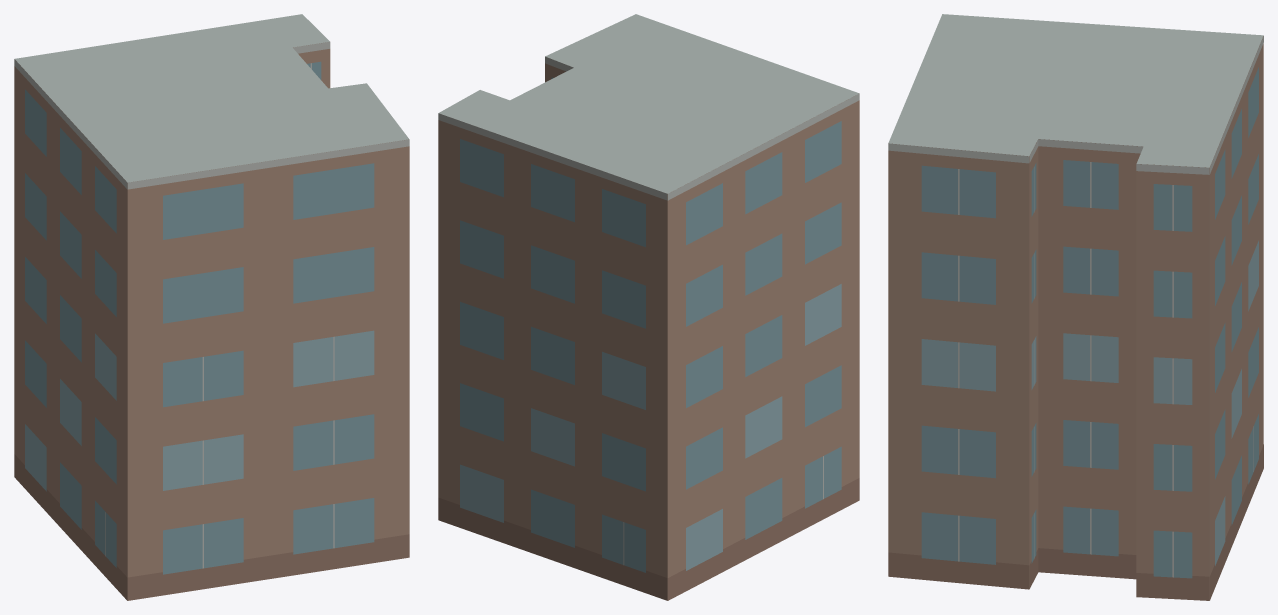
Rendered from survey-upis-32870673.glb.
The picture shows the model from 3 angles, left to right: view 1: azimuth 30°, elevation 25°; view 2: azimuth 150°, elevation 25°; view 3: azimuth 270°, elevation 25°; orthographic projection. The views are drawn at different scales.
Parts seen in each view (by area): view 1: survey-upis-32870673.tmp; view 2: survey-upis-32870673.tmp; view 3: survey-upis-32870673.tmp.
Part boxes in pixels (left/top/right/bottom): survey-upis-32870673.tmp: left=14, top=14, right=409, bottom=600; survey-upis-32870673.tmp: left=438, top=14, right=859, bottom=600; survey-upis-32870673.tmp: left=888, top=14, right=1263, bottom=600.
Size of the model in its own units: 11.11 by 14.6 by 11.48.
